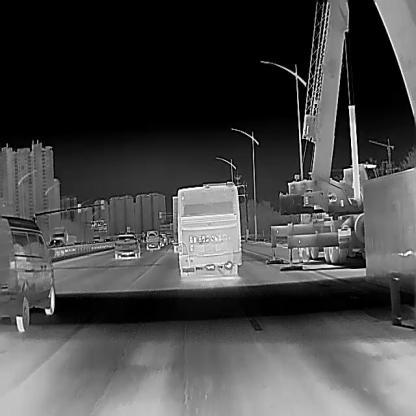car: (0, 215, 54, 332), (177, 181, 241, 276), (115, 232, 141, 259), (51, 226, 77, 244), (171, 197, 178, 252), (144, 229, 160, 249), (47, 240, 64, 247), (162, 233, 168, 245), (157, 235, 163, 245)
